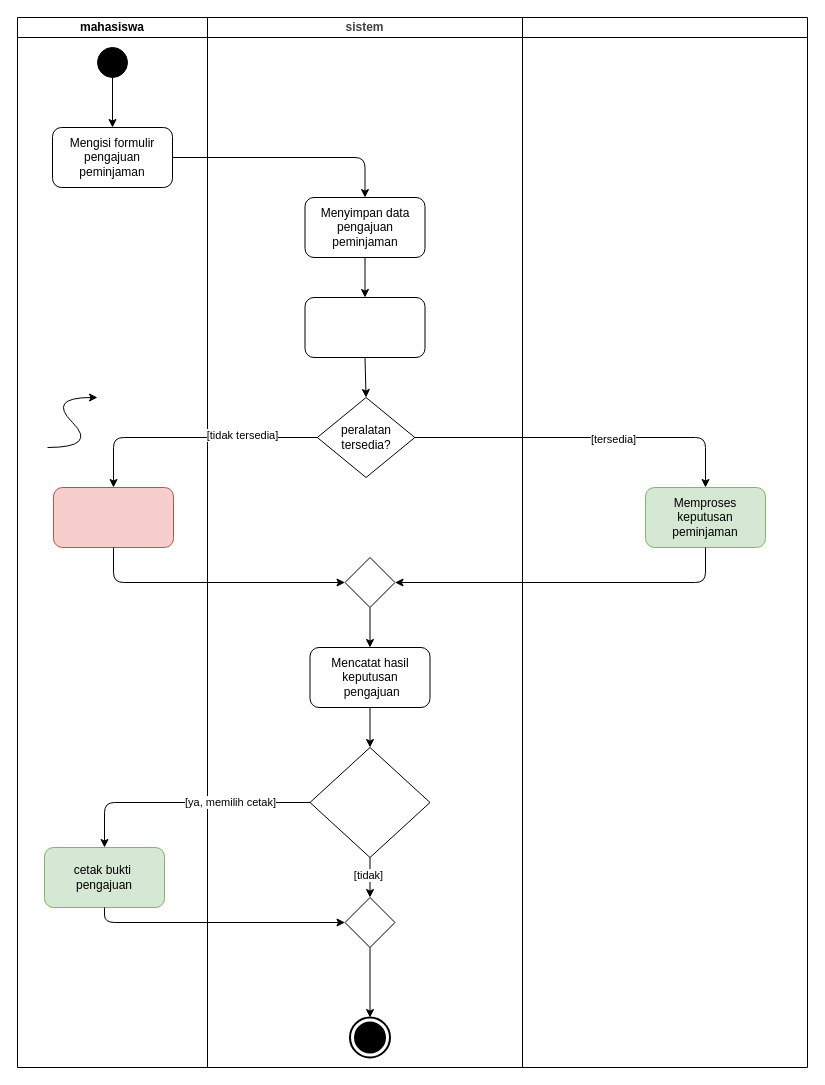
This 825x1085 diagram has some shape labels left out. The shapes that lost their labels are listed below. From the top down, each one's centre as x and y in pixels, then its label:
At (x=364, y=327): "periksa ketersediaan".
At (x=113, y=517): "menerima pemberitahuan pengajuan tidak terpenuhi".
At (x=665, y=542): "Petugas Laboratorium".
At (x=369, y=802): "mahasiswa memilih cetak bukti".
